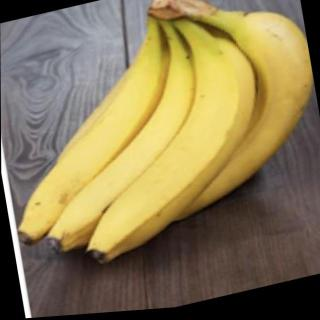banana: (54, 35, 281, 274), (116, 4, 320, 237), (21, 47, 237, 264), (1, 41, 198, 254)
